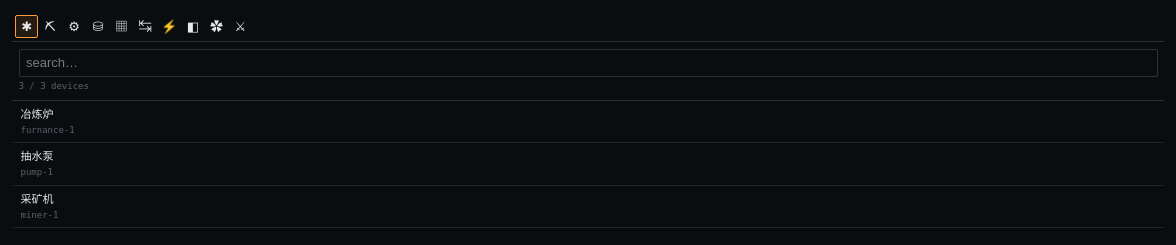
Scenario: DeviceList category tabs › filters by category when a tab is clicked
Click the button titled "资源开采" at coordinates (50, 27), box [39,15,62,38]
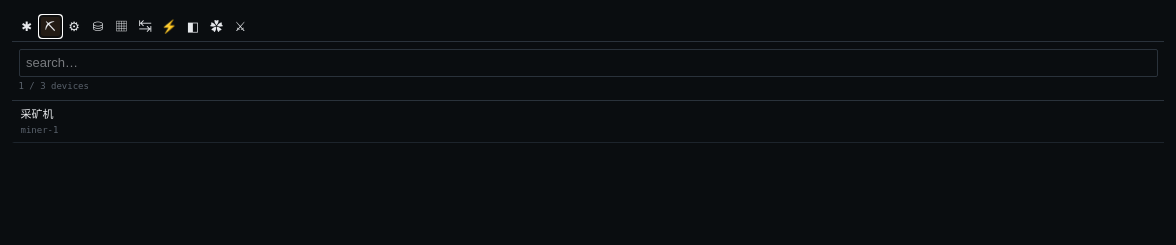
Expected: the text "采矿机" is shown, [20,106,54,122]
Now the button "冶炼炉" is gone
Now the button "抽水泵" is gone
